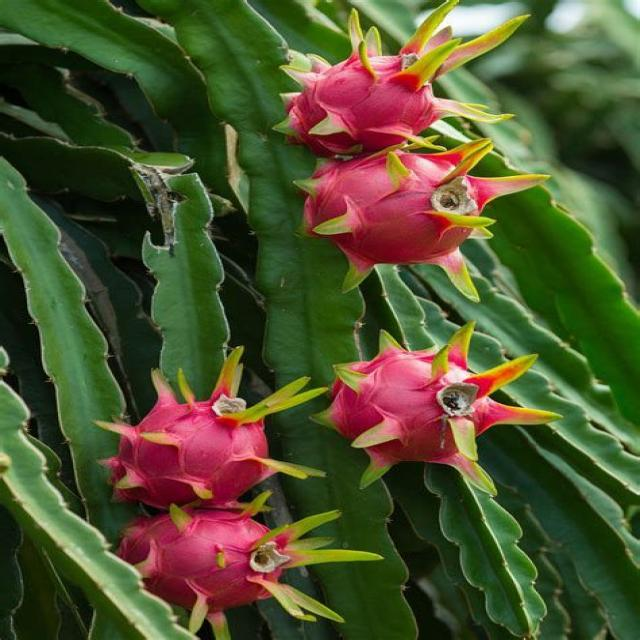Thanh Long: (292, 134, 542, 294), (328, 330, 552, 494), (253, 5, 533, 136), (93, 508, 349, 628), (76, 369, 293, 501)
